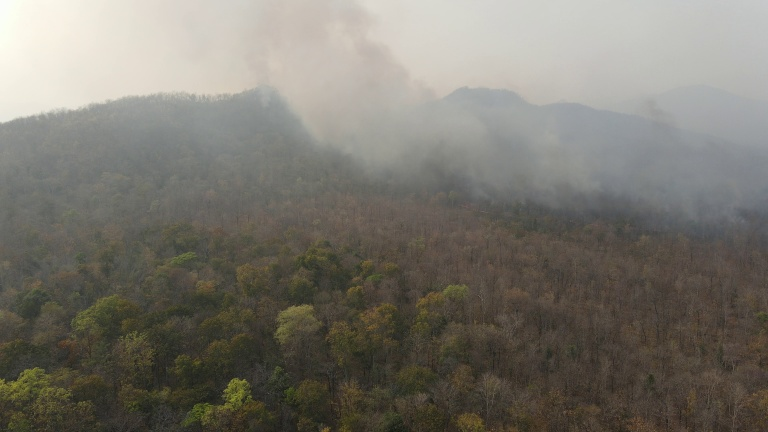smoke: (211, 1, 600, 203), (612, 95, 768, 222), (247, 51, 267, 105)
